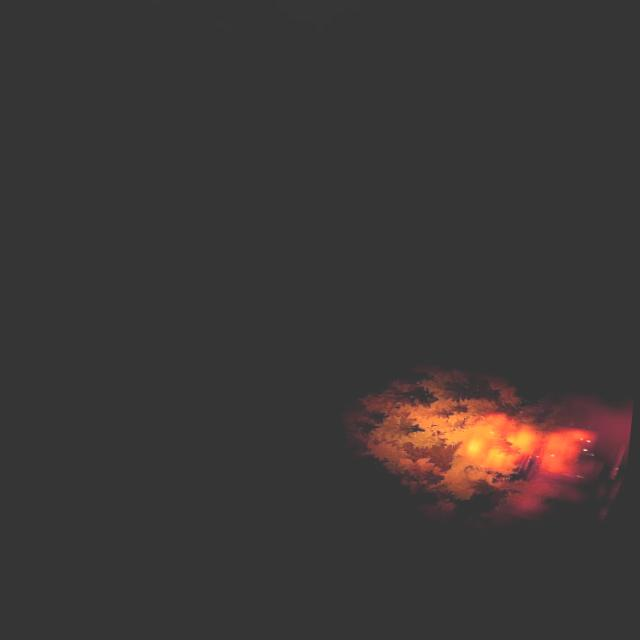fire: (456, 410, 600, 486)
